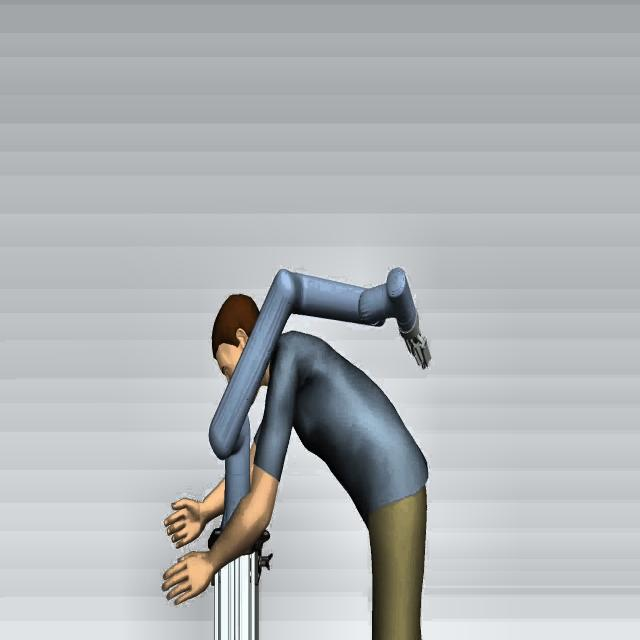robot: (202, 257, 436, 571)
